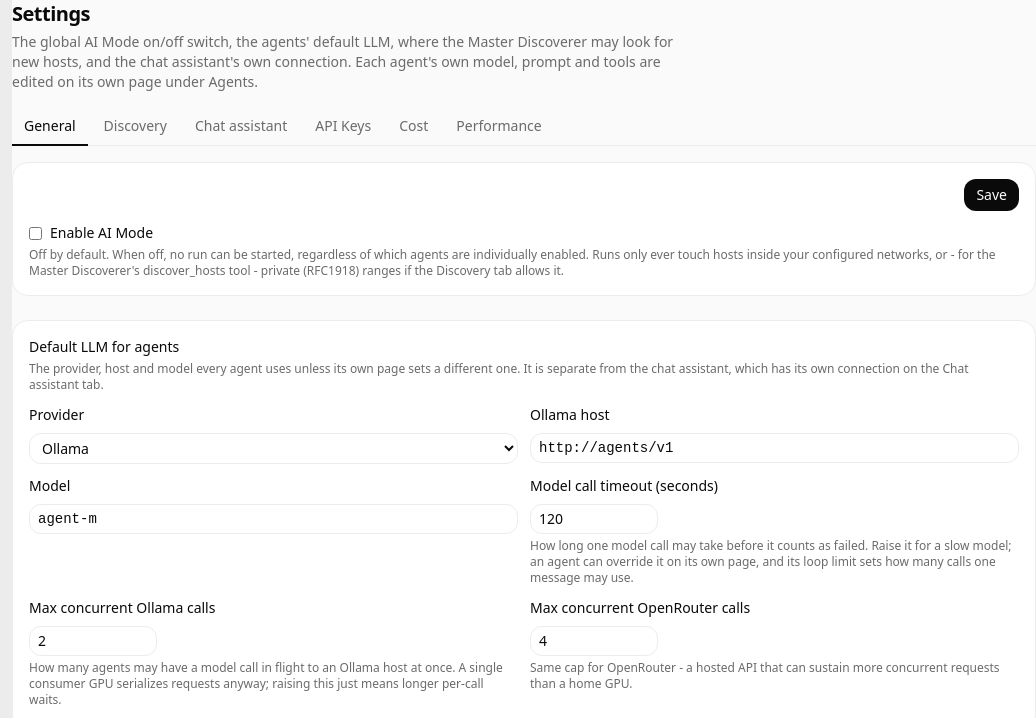
Scenario: AiConfigPage › still shows the key field when the assistant is bound to a key the list would otherwise skip
Click the tab "Chat assistant". click: (241, 127)
box: [183,108,299,146]
(page scrolled)
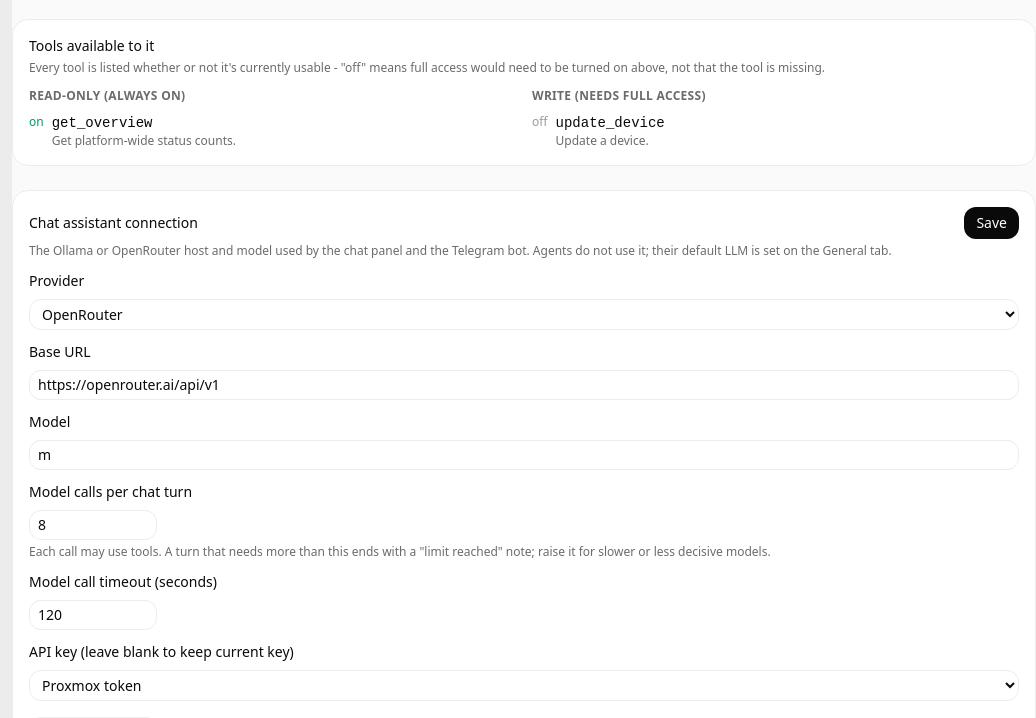
Now the dropdown named "Stored OpenRouter key" shows "Proxmox token", box [29,670,1019,701]
